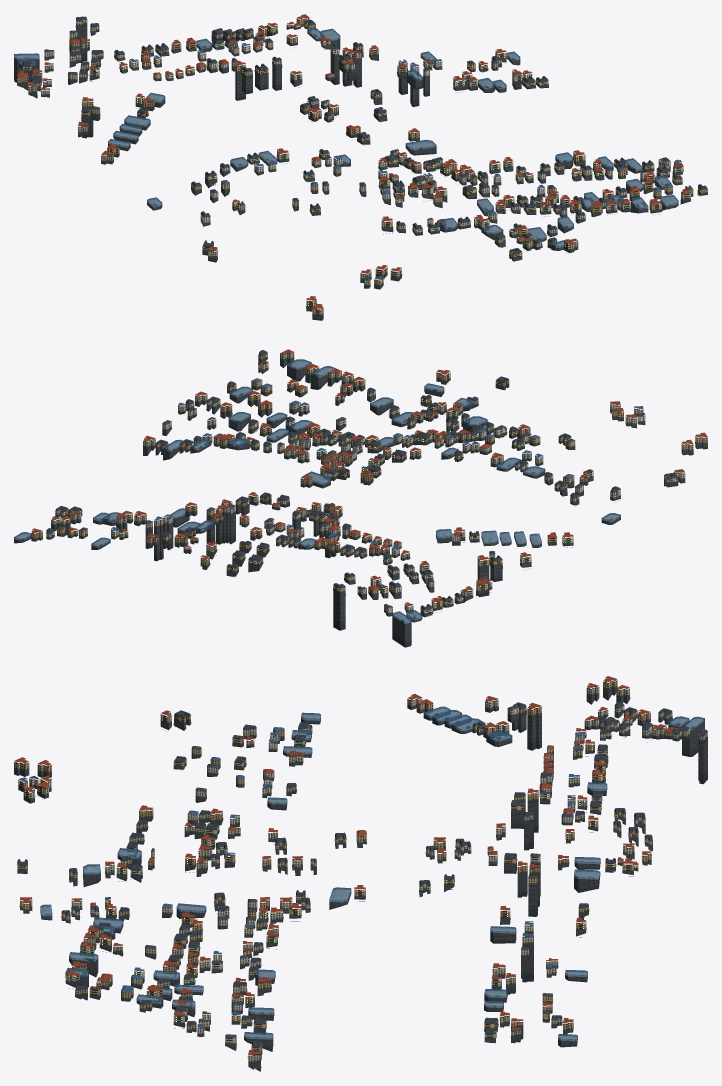
Rendered from osm_buildings_T_E00_S02_Q2.glb.
3 views of the same model, one above another, from view 1: azimuth 30°, elevation 25°; view 2: azimuth 150°, elevation 25°; view 3: azimuth 270°, elevation 25° (orthographic). The views are drawn at different scales.
Visible parts, largest first — view 1: OSM_T_E00_S02_Q2_foundation, OSM_T_E00_S02_Q2_wall_french_ochre, OSM_T_E00_S02_Q2_wall_cream_stucco, OSM_T_E00_S02_Q2_greenhouse_blend, OSM_T_E00_S02_Q2_roof_terracotta, OSM_T_E00_S02_Q2_roof_mansard_slate, OSM_T_E00_S02_Q2_roof_mansard_deck, OSM_T_E00_S02_Q2_wall_pastel_sand, OSM_T_E00_S02_Q2_wall_warm_white, OSM_T_E00_S02_Q2_roof_mint_metal, OSM_T_E00_S02_Q2_balcony_railing, OSM_T_E00_S02_Q2_trim_cornice (+2 smaller); view 2: OSM_T_E00_S02_Q2_foundation, OSM_T_E00_S02_Q2_wall_french_ochre, OSM_T_E00_S02_Q2_wall_cream_stucco, OSM_T_E00_S02_Q2_greenhouse_blend, OSM_T_E00_S02_Q2_roof_terracotta, OSM_T_E00_S02_Q2_roof_mansard_slate, OSM_T_E00_S02_Q2_roof_mansard_deck, OSM_T_E00_S02_Q2_wall_pastel_sand, OSM_T_E00_S02_Q2_roof_mint_metal, OSM_T_E00_S02_Q2_wall_warm_white, OSM_T_E00_S02_Q2_window_emissive_warm, OSM_T_E00_S02_Q2_roof_alpine_blue (+2 smaller); view 3: OSM_T_E00_S02_Q2_foundation, OSM_T_E00_S02_Q2_wall_french_ochre, OSM_T_E00_S02_Q2_wall_cream_stucco, OSM_T_E00_S02_Q2_greenhouse_blend, OSM_T_E00_S02_Q2_roof_terracotta, OSM_T_E00_S02_Q2_roof_mansard_slate, OSM_T_E00_S02_Q2_roof_mansard_deck, OSM_T_E00_S02_Q2_wall_pastel_sand, OSM_T_E00_S02_Q2_trim_cornice, OSM_T_E00_S02_Q2_wall_warm_white, OSM_T_E00_S02_Q2_roof_mint_metal, OSM_T_E00_S02_Q2_roof_alpine_blue (+2 smaller).
Boxes of the visible parts, left/top/right/bottom form: OSM_T_E00_S02_Q2_foundation: left=14, top=23, right=707, bottom=320; OSM_T_E00_S02_Q2_wall_french_ochre: left=17, top=18, right=707, bottom=314; OSM_T_E00_S02_Q2_wall_cream_stucco: left=19, top=19, right=690, bottom=279; OSM_T_E00_S02_Q2_greenhouse_blend: left=14, top=27, right=678, bottom=247; OSM_T_E00_S02_Q2_roof_terracotta: left=17, top=14, right=690, bottom=308; OSM_T_E00_S02_Q2_roof_mansard_slate: left=23, top=17, right=707, bottom=279; OSM_T_E00_S02_Q2_roof_mansard_deck: left=15, top=16, right=706, bottom=251; OSM_T_E00_S02_Q2_wall_pastel_sand: left=41, top=24, right=681, bottom=285; OSM_T_E00_S02_Q2_wall_warm_white: left=43, top=40, right=669, bottom=224; OSM_T_E00_S02_Q2_roof_mint_metal: left=17, top=23, right=707, bottom=314; OSM_T_E00_S02_Q2_balcony_railing: left=16, top=18, right=699, bottom=313; OSM_T_E00_S02_Q2_trim_cornice: left=17, top=18, right=704, bottom=319; OSM_T_E00_S02_Q2_foundation: left=14, top=357, right=707, bottom=647; OSM_T_E00_S02_Q2_wall_french_ochre: left=31, top=353, right=707, bottom=608; OSM_T_E00_S02_Q2_wall_cream_stucco: left=46, top=352, right=685, bottom=613; OSM_T_E00_S02_Q2_greenhouse_blend: left=14, top=359, right=620, bottom=623; OSM_T_E00_S02_Q2_roof_terracotta: left=31, top=349, right=707, bottom=606; OSM_T_E00_S02_Q2_roof_mansard_slate: left=46, top=351, right=677, bottom=609; OSM_T_E00_S02_Q2_roof_mansard_deck: left=14, top=350, right=676, bottom=622; OSM_T_E00_S02_Q2_wall_pastel_sand: left=162, top=405, right=645, bottom=593; OSM_T_E00_S02_Q2_roof_mint_metal: left=32, top=357, right=707, bottom=613; OSM_T_E00_S02_Q2_wall_warm_white: left=154, top=405, right=620, bottom=613; OSM_T_E00_S02_Q2_window_emissive_warm: left=19, top=362, right=675, bottom=623; OSM_T_E00_S02_Q2_roof_alpine_blue: left=111, top=378, right=643, bottom=549; OSM_T_E00_S02_Q2_foundation: left=14, top=686, right=707, bottom=1071; OSM_T_E00_S02_Q2_wall_french_ochre: left=14, top=679, right=671, bottom=1051; OSM_T_E00_S02_Q2_wall_cream_stucco: left=23, top=685, right=707, bottom=1062; OSM_T_E00_S02_Q2_greenhouse_blend: left=40, top=706, right=704, bottom=1041; OSM_T_E00_S02_Q2_roof_terracotta: left=14, top=676, right=677, bottom=1054; OSM_T_E00_S02_Q2_roof_mansard_slate: left=17, top=703, right=707, bottom=1047; OSM_T_E00_S02_Q2_roof_mansard_deck: left=18, top=702, right=706, bottom=1044; OSM_T_E00_S02_Q2_wall_pastel_sand: left=29, top=710, right=638, bottom=1043; OSM_T_E00_S02_Q2_trim_cornice: left=16, top=680, right=705, bottom=1060; OSM_T_E00_S02_Q2_wall_warm_white: left=134, top=718, right=682, bottom=1027; OSM_T_E00_S02_Q2_roof_mint_metal: left=14, top=688, right=707, bottom=1066; OSM_T_E00_S02_Q2_roof_alpine_blue: left=18, top=727, right=584, bottom=1027.
Size of the model in its own units: 947 by 201 by 1001.
16 materials, 16 textured.
